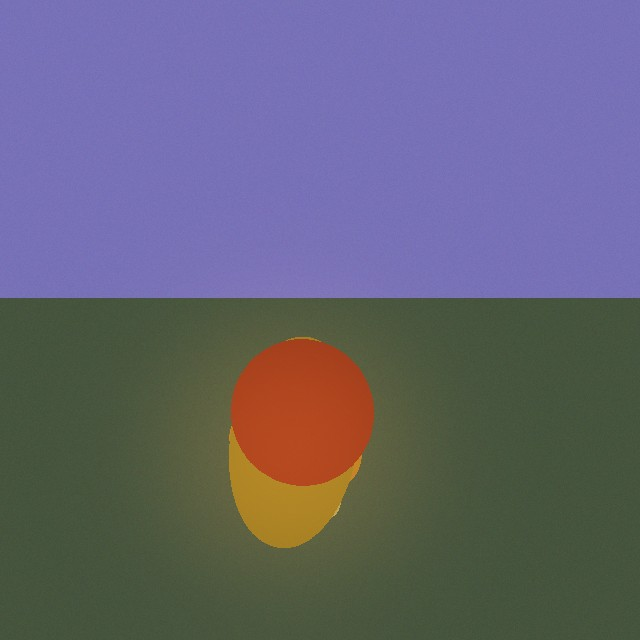fire: (211, 376, 367, 522)
